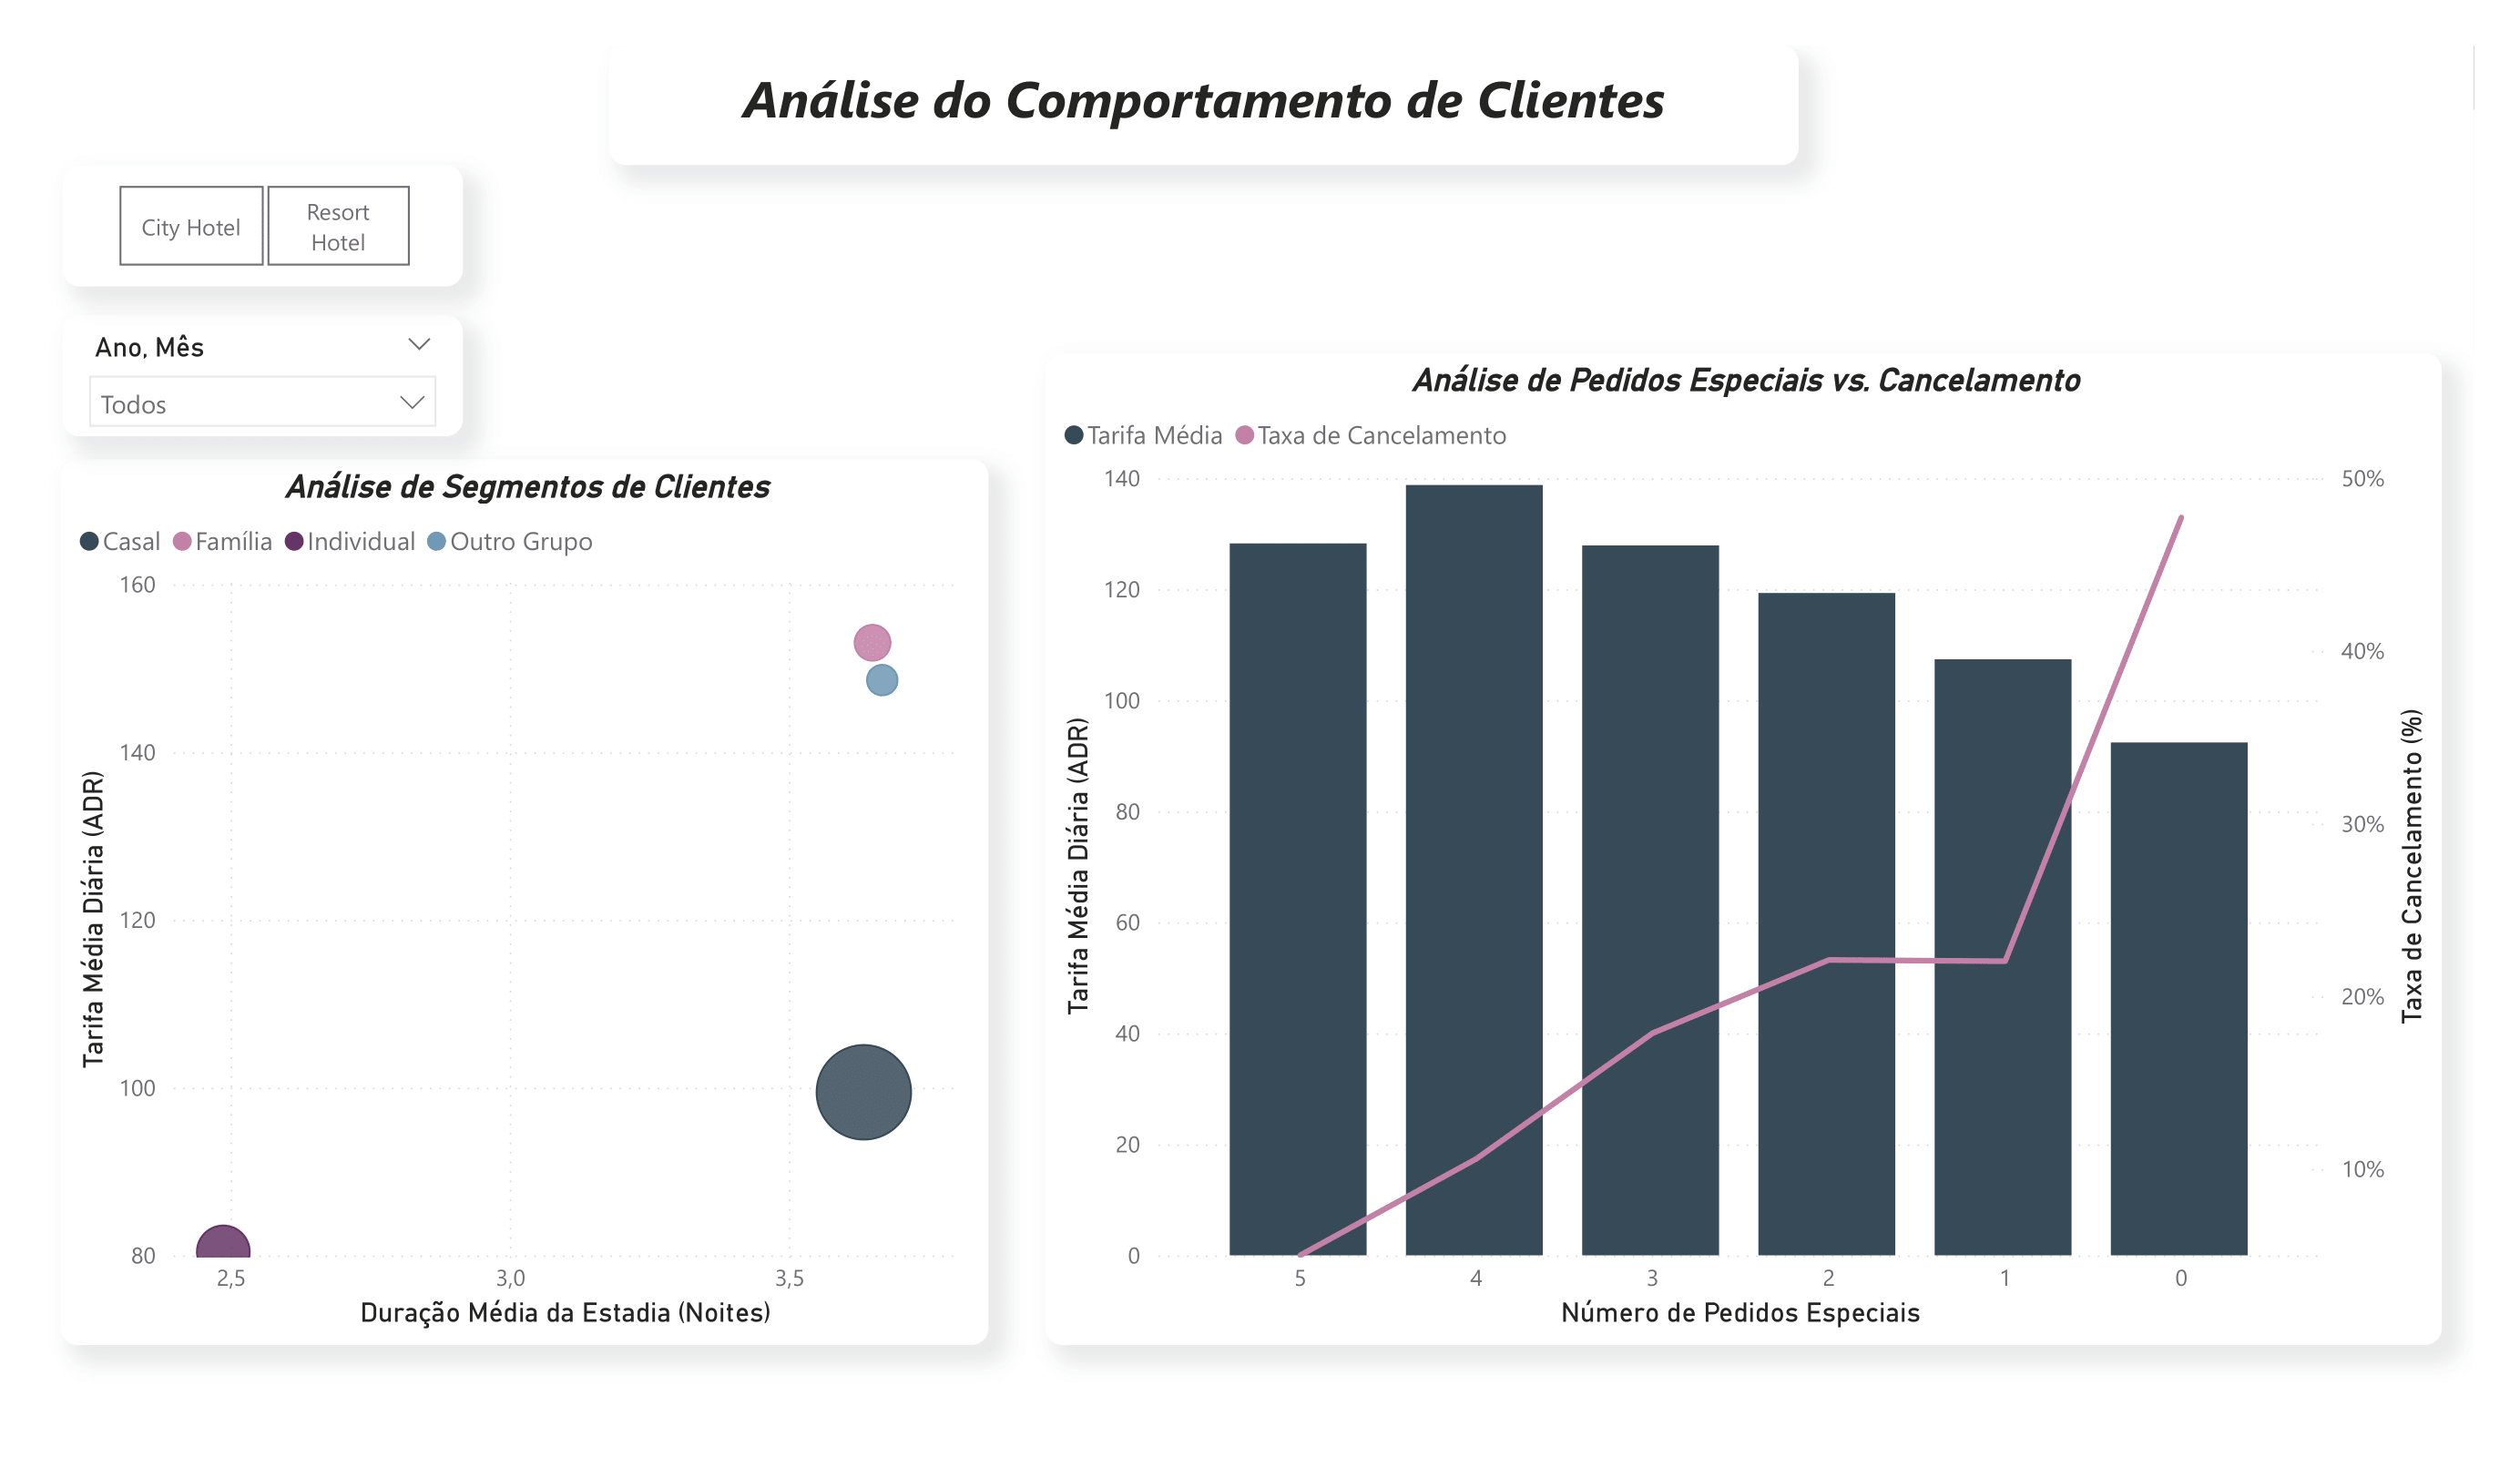

This screenshot's page, from the dashboard's own definition file:
{"tool":"powerbi","page":{"name":"Análise de Comportamento","canvas":[1280,720],"ordinal":2},"visuals":[{"type":"slicer","fields":{"Values":["hotel_booking_tratado.arrival_date.Variation.Hierarquia de datas.Ano","hotel_booking_tratado.arrival_date.Variation.Hierarquia de datas.Mês"]},"box":[211.1,95.6,220,65.6],"z":0},{"type":"slicer","fields":{"Values":["hotel_booking_tratado.hotel"]},"box":[0,95.6,211.1,65.6],"z":1000},{"type":"textbox","box":[296.7,0,627.8,63.3],"z":2000},{"type":"scatterChart","title":"Análise de Segmentos de Clientes","fields":{"X":["hotel_booking_tratado.Duração_Média_Estadia"],"Y":["hotel_booking_tratado.ADR_médio"],"Series":["hotel_booking_tratado.Perfil Grupo"],"Size":["CountNonNull(hotel_booking_tratado.hotel)"]},"box":[16,161,481,524],"z":3000},{"type":"lineClusteredColumnComboChart","title":"Análise de Pedidos Especiais vs. Cancelamento","fields":{"Category":["hotel_booking_tratado.total_of_special_requests"],"Y":["hotel_booking_tratado.ADR_médio"],"Y2":["hotel_booking_tratado.Taxa_de_Cancelamento"]},"box":[543,161,721,516],"z":4000}]}

Visuals, with their boxes in screenshot pixels (x1, y1, x2, y2):
slicer - hotel_booking_tratado.arrival_date.Variation.Hierarquia de datas.Ano x hotel_booking_tratado.arrival_date.Variation.Hierarquia de datas.Mês: locate(446, 227, 863, 352)
slicer - hotel_booking_tratado.hotel: locate(46, 227, 446, 352)
textbox: locate(608, 46, 1800, 166)
"Análise de Segmentos de Clientes" scatterChart: locate(76, 351, 989, 1345)
"Análise de Pedidos Especiais vs. Cancelamento" lineClusteredColumnComboChart: locate(1076, 351, 2444, 1330)
